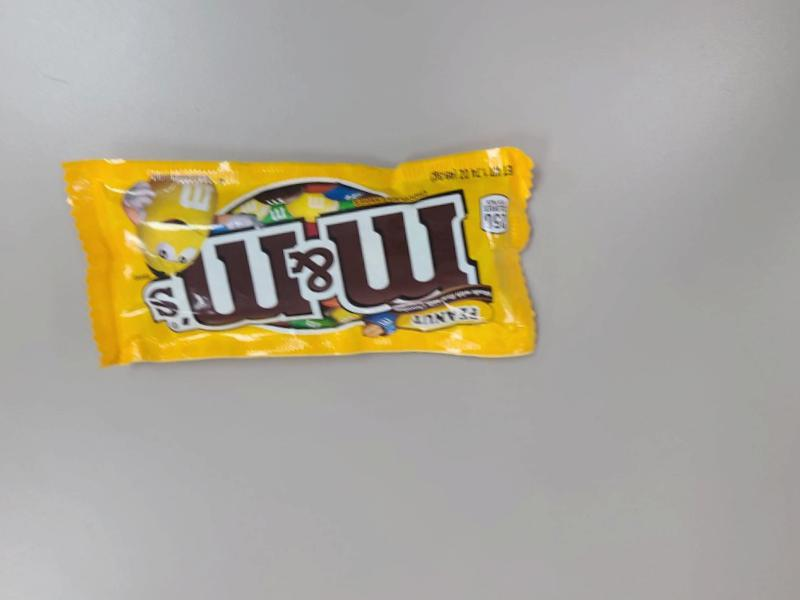m&m: (92, 150, 523, 371)
